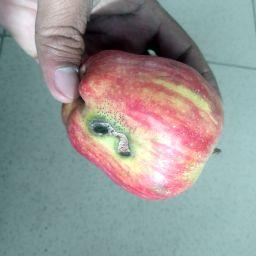apple: (62, 22, 227, 228)
